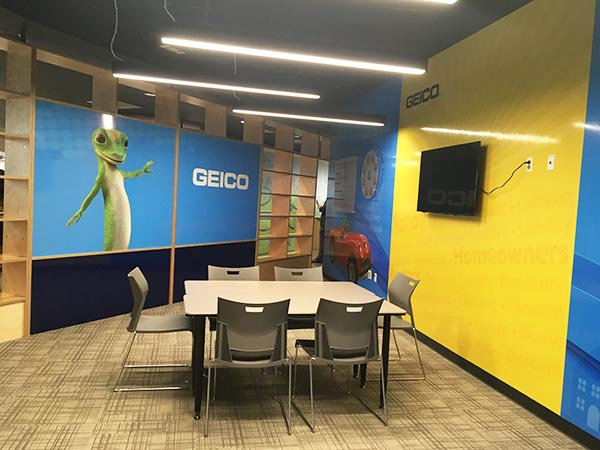geico: (190, 164, 253, 195), (401, 85, 445, 111)
